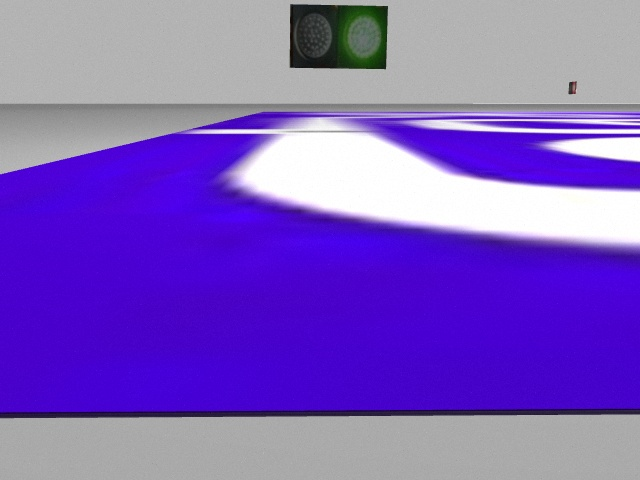green: (338, 6, 390, 72)
